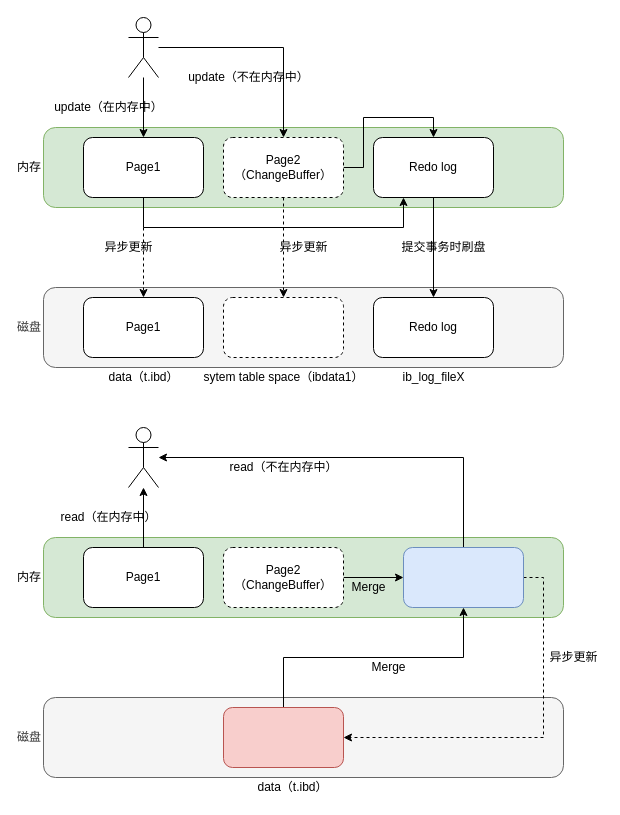
This 620x815 diagram has some shape labels left out. Here are the shapes that lost their labels. From the top down, the centre of each, then its label:
the point at 283,327: ChangeBuffer
the point at 463,577: Page2（最新数据）
the point at 283,737: Page2（脏数据）
